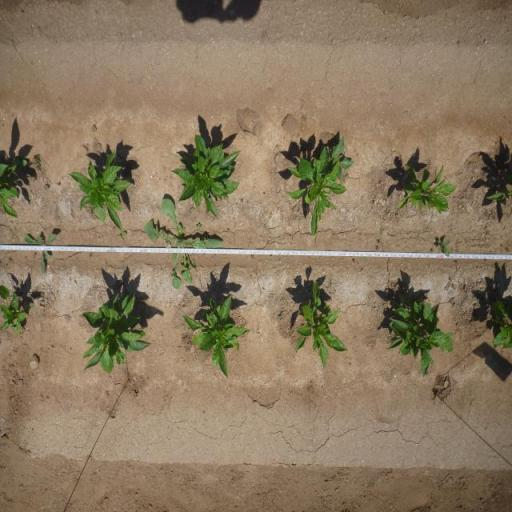plant: (283, 136, 356, 240), (76, 284, 152, 378), (382, 287, 456, 380), (178, 289, 251, 380), (173, 130, 241, 217), (67, 147, 134, 230), (291, 278, 349, 371), (391, 160, 458, 218), (0, 282, 39, 340), (0, 154, 30, 220), (485, 293, 512, 353)
weed: (144, 208, 223, 290), (24, 230, 62, 275), (436, 235, 450, 258), (33, 153, 42, 173), (338, 173, 353, 185), (116, 230, 128, 239), (196, 222, 202, 232), (44, 182, 50, 191), (32, 252, 38, 260), (7, 256, 13, 264), (278, 314, 284, 321), (374, 246, 380, 252), (56, 181, 62, 186), (240, 198, 244, 204), (378, 239, 382, 245), (4, 262, 8, 268), (250, 254, 254, 260), (430, 248, 434, 253), (34, 175, 37, 181), (90, 252, 92, 258), (270, 255, 272, 260)
